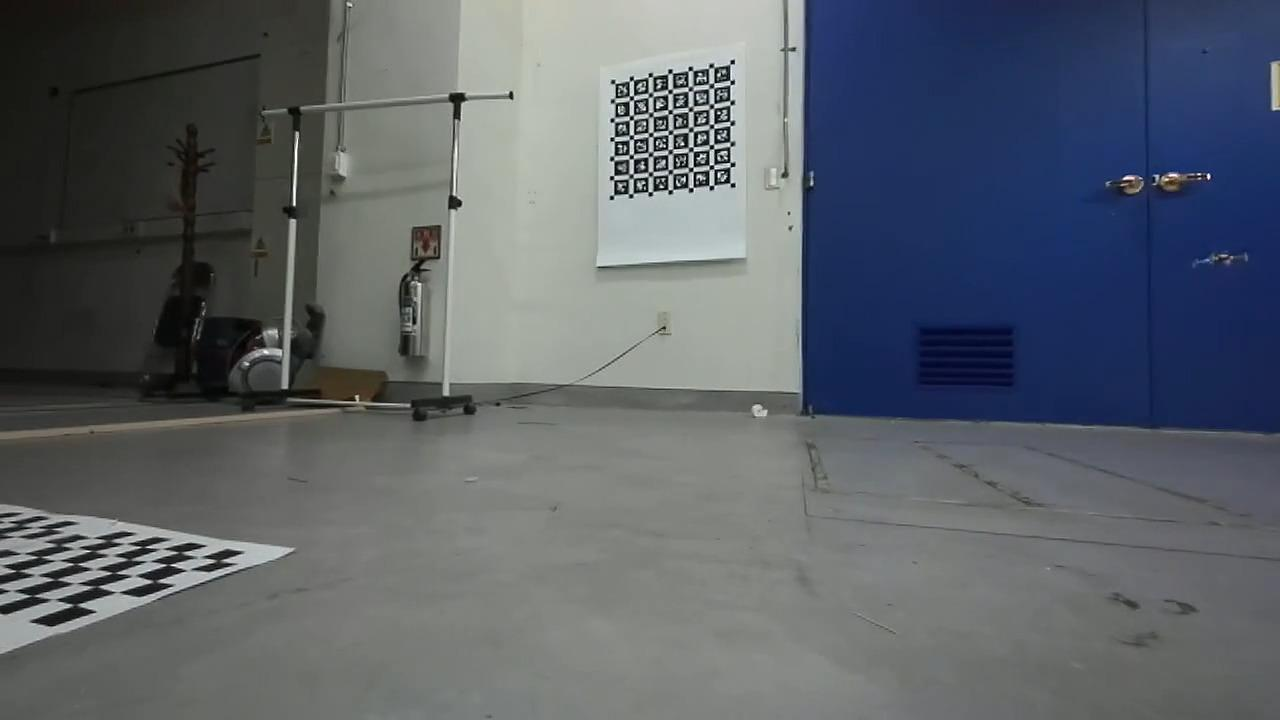crazyflie: (1191, 247, 1254, 268)
